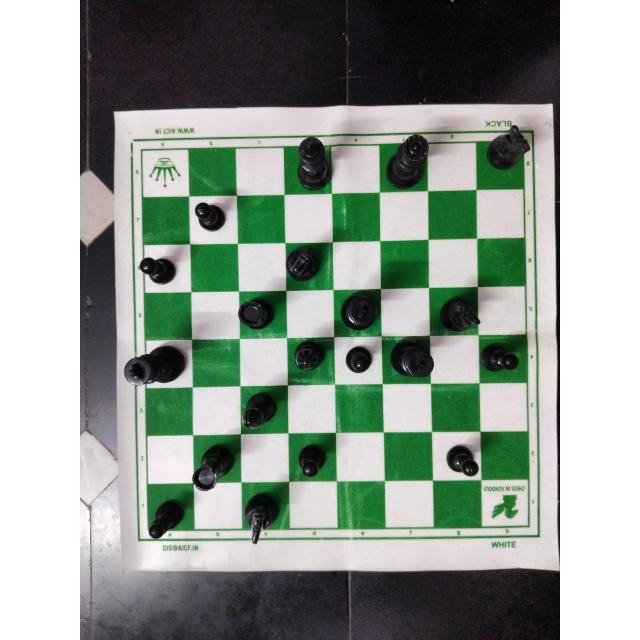black-bishop: (239, 392, 281, 433), (290, 337, 330, 377)
black-king: (122, 343, 190, 387), (293, 132, 335, 192), (389, 338, 437, 386), (338, 291, 381, 335)
black-knight: (239, 491, 282, 549), (486, 123, 530, 177), (437, 292, 483, 336), (286, 244, 322, 288)
black-pawn: (147, 499, 187, 541), (292, 442, 331, 481), (138, 254, 180, 286), (480, 342, 522, 374), (442, 445, 480, 477), (194, 201, 226, 233), (344, 345, 375, 377)
black-queen: (382, 132, 430, 188)
black-rook: (190, 441, 239, 490), (236, 295, 276, 332)
